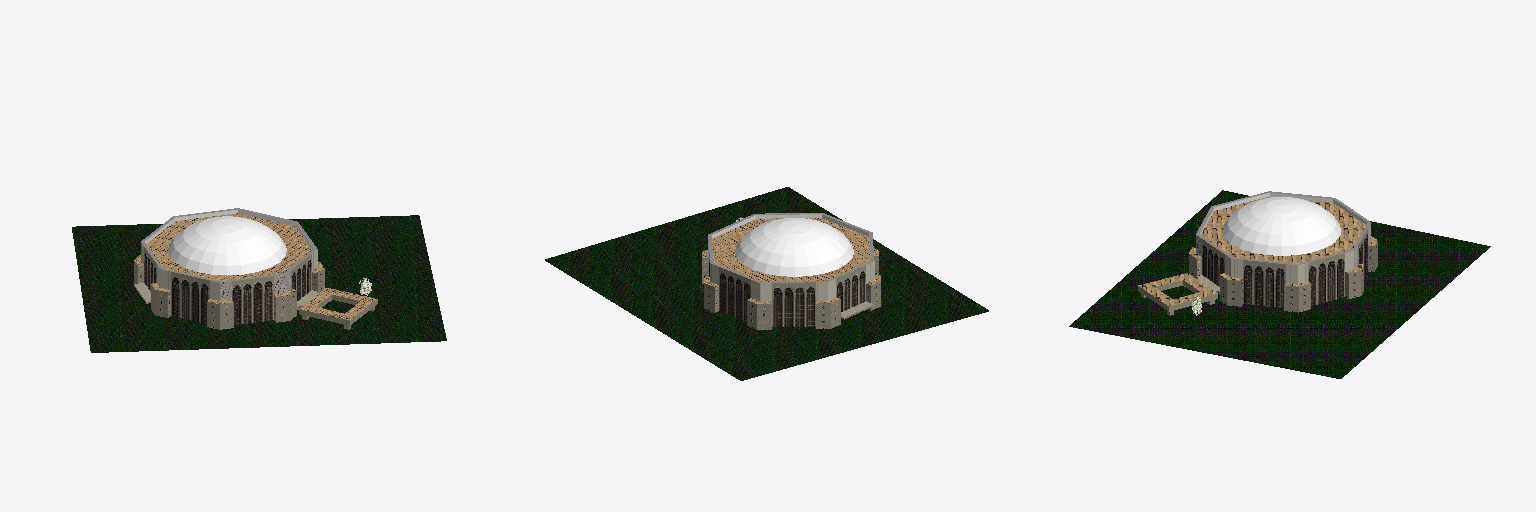
The picture shows the model from 3 angles: view 1: azimuth 30°, elevation 25°; view 2: azimuth 150°, elevation 25°; view 3: azimuth 270°, elevation 25°; orthographic projection.
Visible parts, largest first — view 1: Mesh1 Google_Earth_Snapshot Component1 Model, Mesh2 main1 Component1 Model, Mesh3 main1 Component1 Model, Mesh4 main1 Component1 Model; view 2: Mesh1 Google_Earth_Snapshot Component1 Model, Mesh2 main1 Component1 Model, Mesh3 main1 Component1 Model; view 3: Mesh1 Google_Earth_Snapshot Component1 Model, Mesh2 main1 Component1 Model, Mesh3 main1 Component1 Model, Mesh4 main1 Component1 Model.
Boxes of the visible parts, x1,y1,x2,y2 form: Mesh1 Google_Earth_Snapshot Component1 Model: [72, 215, 446, 352]; Mesh2 main1 Component1 Model: [134, 208, 324, 329]; Mesh3 main1 Component1 Model: [168, 216, 286, 275]; Mesh4 main1 Component1 Model: [299, 288, 377, 329]; Mesh1 Google_Earth_Snapshot Component1 Model: [545, 187, 988, 380]; Mesh2 main1 Component1 Model: [702, 213, 880, 329]; Mesh3 main1 Component1 Model: [735, 218, 853, 276]; Mesh1 Google_Earth_Snapshot Component1 Model: [1069, 190, 1490, 378]; Mesh2 main1 Component1 Model: [1189, 191, 1377, 312]; Mesh3 main1 Component1 Model: [1222, 197, 1341, 255]; Mesh4 main1 Component1 Model: [1138, 273, 1217, 315].
Size of the model in its own units: 9325 by 1722 by 8806.
Materials: 14 (7 with a texture image).